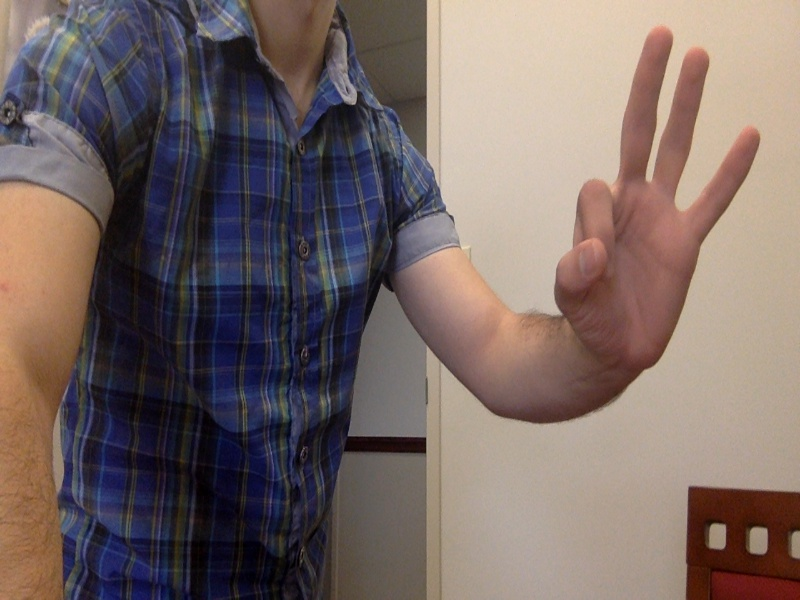3-hand: (559, 26, 761, 384)
